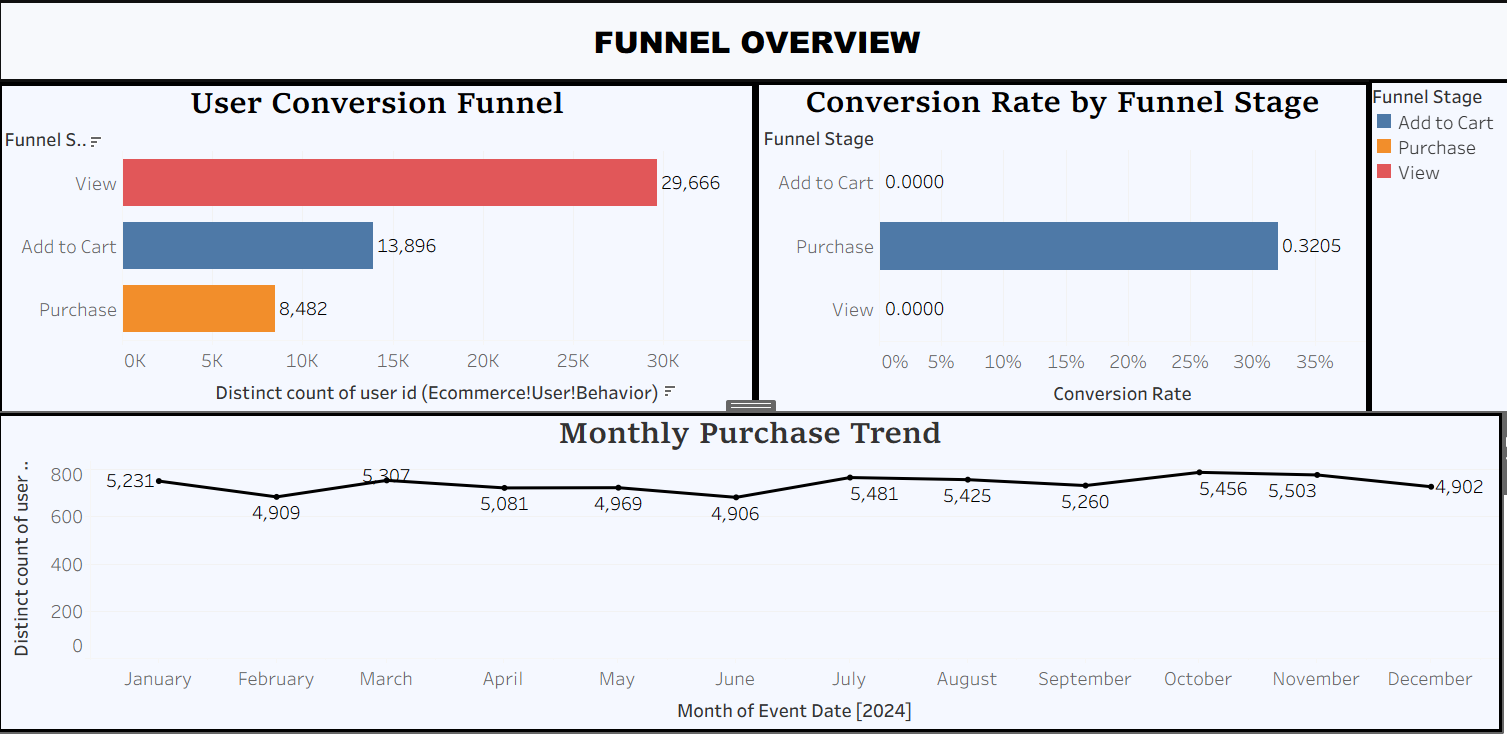

Layout of this report page (visuals, bound fields, positions):
{"tool":"tableau","page":{"name":"FUNNEL OVERVIEW","canvas":[1000,1000],"units":"permille","ordinal":1},"visuals":[{"type":"text","box":[0.7,1.3,998.7,109.8]},{"type":"legend","title":"User Conversion Funnel","param":"[federated.1ojs7vo06ltto31a78pu50yylxy6].[none:Calculation_756604772921462784:nk","box":[902.6,108.4,95.4,447.1]},{"type":"worksheet","title":"User Conversion Funnel","mark":"Automatic","rows":["Calculation_756604772921462784"],"cols":["user_id (Ecommerce!User!Behavior)"],"box":[0.7,111.1,498.7,445.8]},{"type":"worksheet","title":"Conversion Rate by Funnel Stage","mark":"Automatic","rows":["Calculation_756604772921462784"],"cols":["Calculation_756604772921802754"],"box":[499.3,111.1,403.3,445.8]},{"type":"worksheet","title":"Monthly Purchase Trend","mark":"Automatic","rows":["user_id (Ecommerce!User!Behavior)"],"cols":["event_date"],"box":[0.7,554.2,989.5,427]}]}

Visuals, with their boxes on the dashboard's canvas, which has no fixed pixel size, in thousandths of its width and height (x1, y1, x2, y2). These are canvas units, not pixel positions in the 1507x735 screenshot, which may show the page scaled, cropped or inside an application window:
text: <box>1,1,999,111</box>
"User Conversion Funnel" legend: <box>903,108,998,556</box>
"User Conversion Funnel" worksheet: <box>1,111,499,557</box>
"Conversion Rate by Funnel Stage" worksheet: <box>499,111,903,557</box>
"Monthly Purchase Trend" worksheet: <box>1,554,990,981</box>
